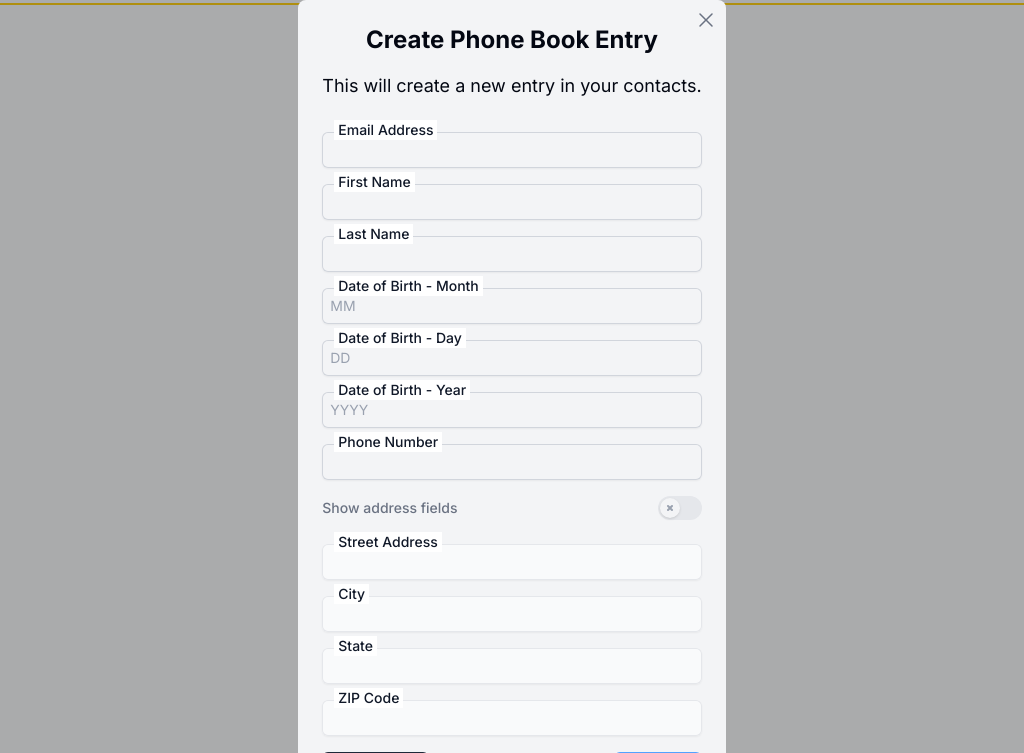
Test case: contact dialog validation and review › presents a valid contact as a read-only review confirmation
Check: the element named "Contact information" is shown, box [322,132,702,736]
Check: the field labelled "Email Address" is shown, box [322,132,702,168]
Type "Ada" into the field labelled "First Name". click: coordinates (512, 202)
box: [322,184,702,220]
Type "Lovelace" into the field labelled "Last Name". click: coordinates (512, 254)
box: [322,236,702,272]
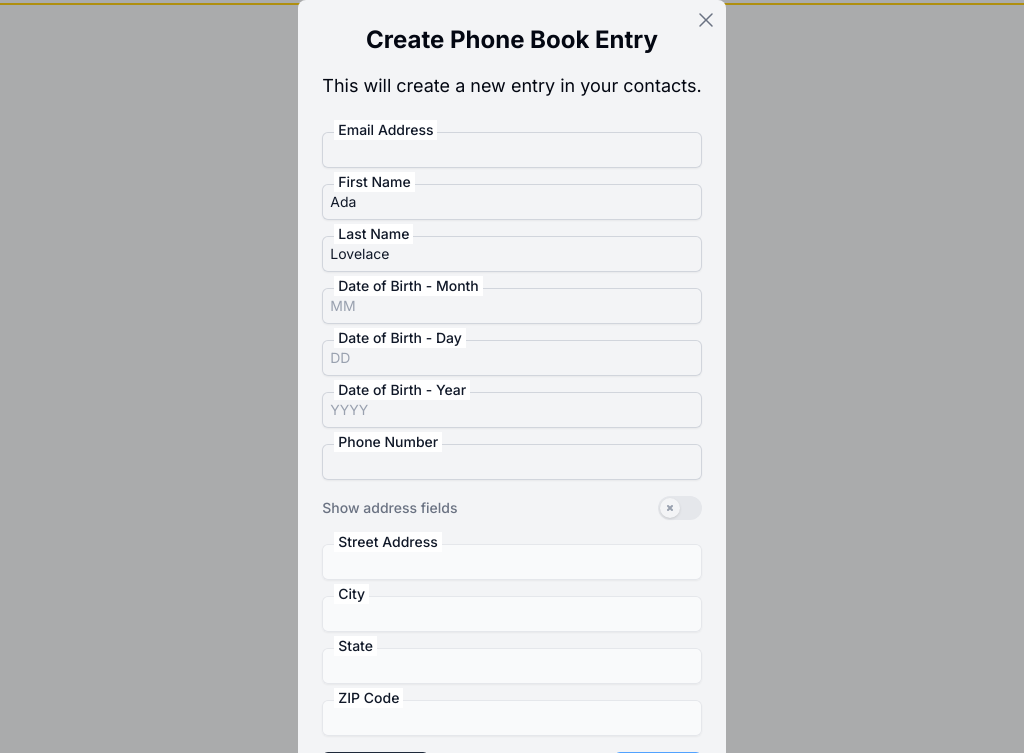
Type "02" into the field labelled "Date of Birth - Month". click: coordinates (512, 306)
box: [322,288,702,324]
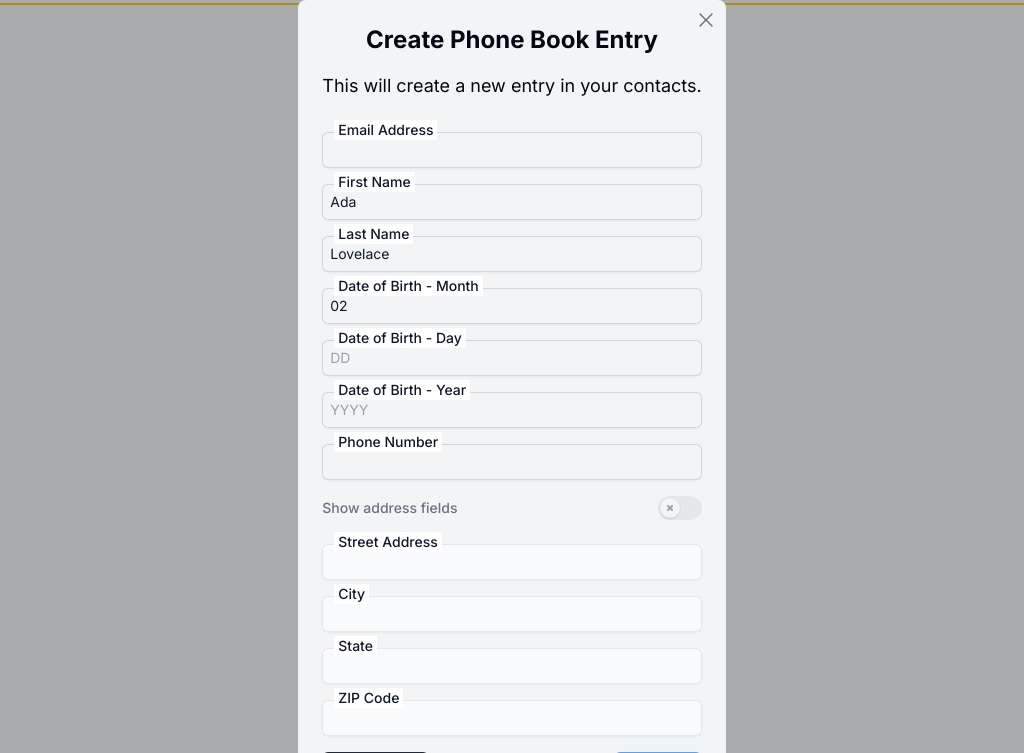
Type "29" into the field labelled "Date of Birth - Day". click: coordinates (512, 358)
box: [322,340,702,376]
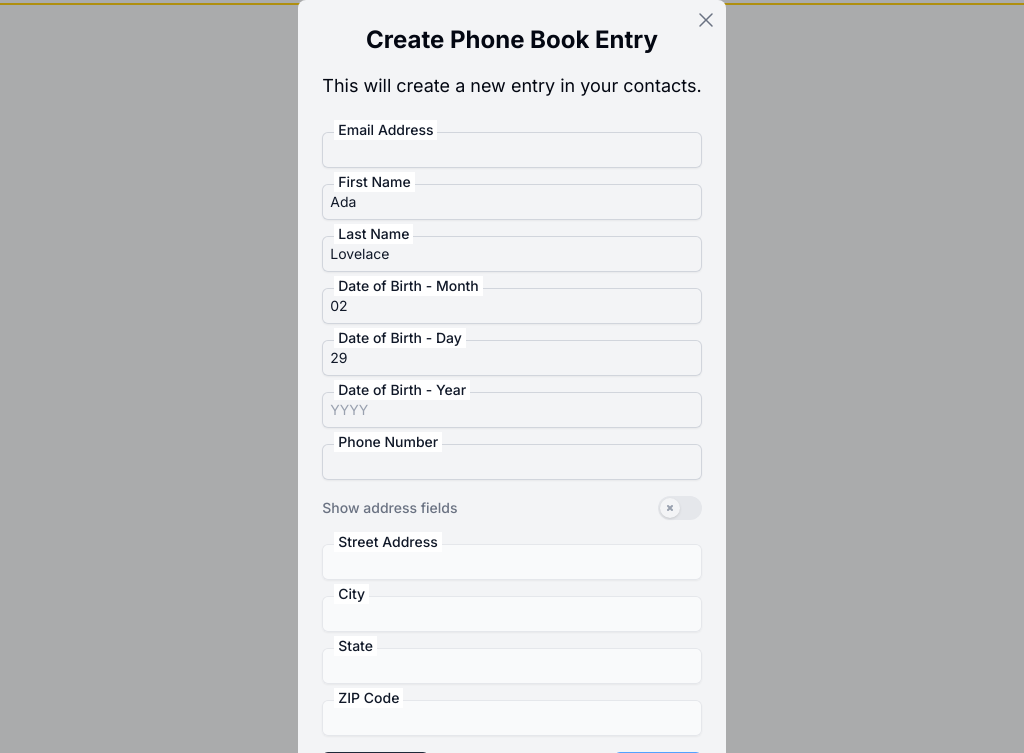
Type "2000" into the field labelled "Date of Birth - Year". click: coordinates (512, 410)
box: [322,392,702,428]
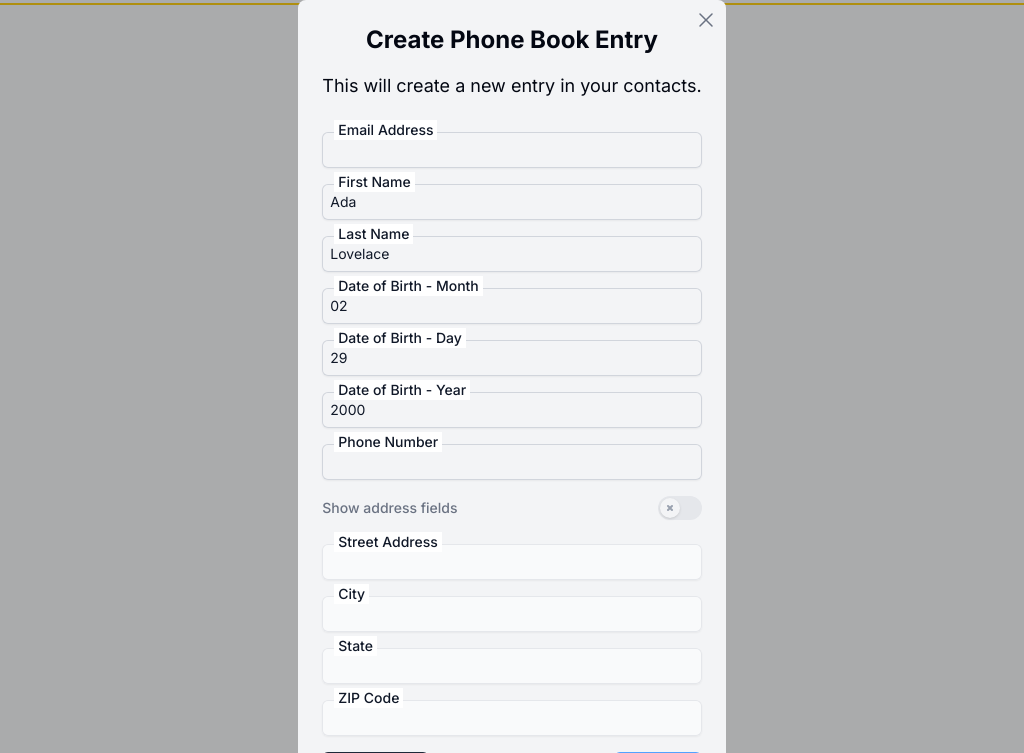
Type "555-0101" into the field labelled "Phone Number". click: coordinates (512, 462)
box: [322,444,702,480]
(page scrolled)
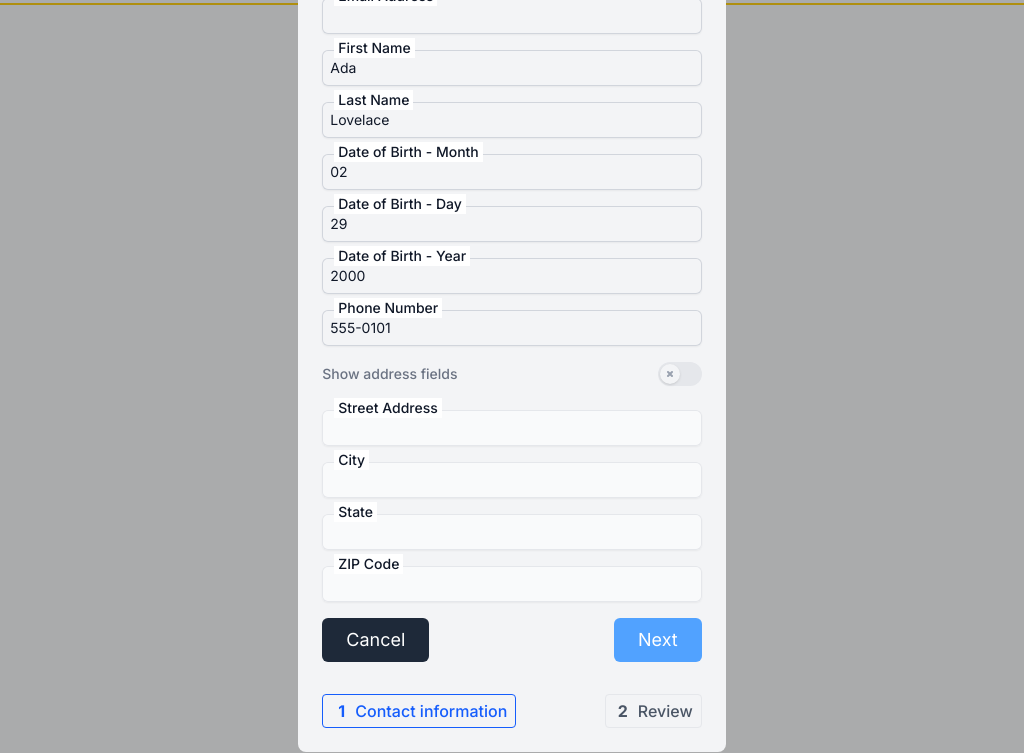
Click the button "Next". click: coordinates (658, 640)
box: [614,618,702,662]
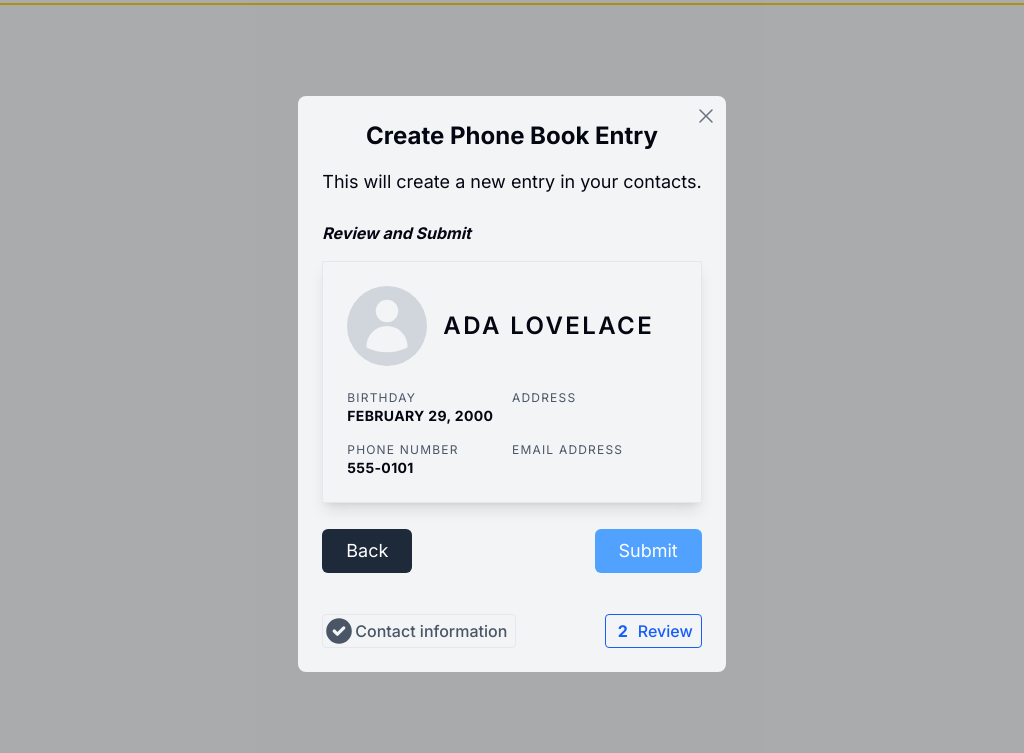
Check: the element "Review and Submit" is shown, box [322,221,702,503]
Check: the heading "Review and Submit" is shown, box [322,223,471,243]
Check: the text "Ada Lovelace" is shown, box [443,312,654,340]
